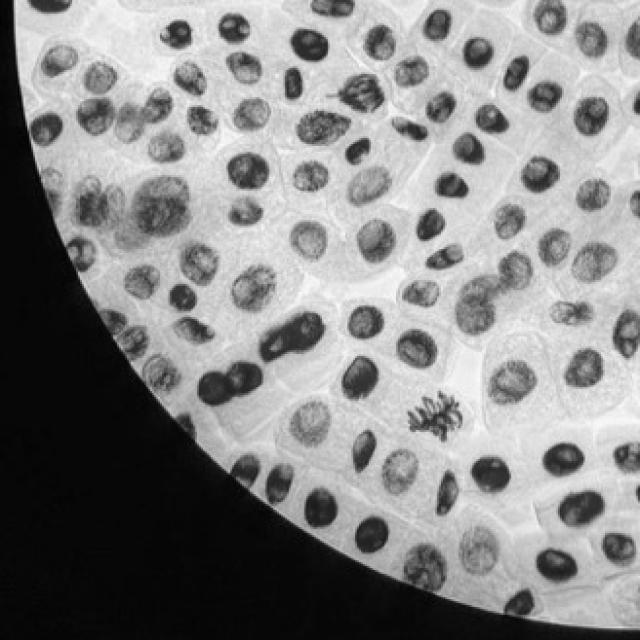anaphase: (320, 68, 392, 116)
interphase: (514, 150, 564, 202), (446, 127, 492, 172), (472, 101, 515, 140), (428, 170, 477, 203), (624, 84, 640, 120)
metaphase: (402, 386, 468, 449)
